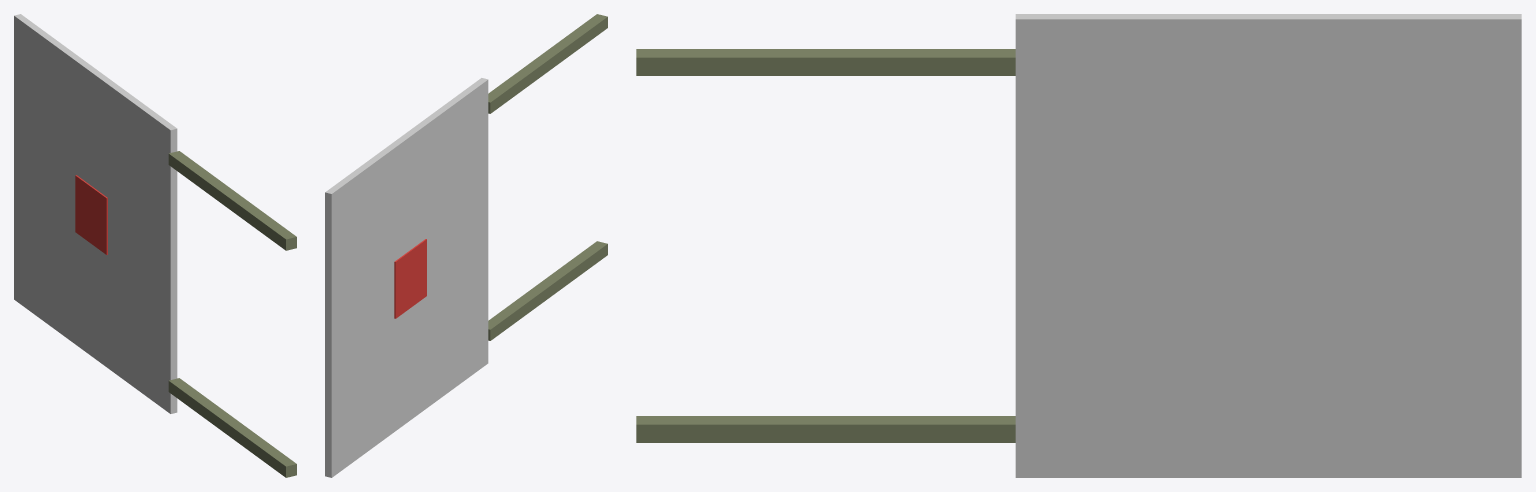
3 renders of one model, left to right at view 1: azimuth 30°, elevation 25°; view 2: azimuth 150°, elevation 25°; view 3: azimuth 270°, elevation 25°, orthographic. The views are drawn at different scales.
Visible parts, largest first — view 1: board, posts, bullseye; view 2: board, posts, bullseye; view 3: board, posts.
Part boxes in pixels (<box>): board: <box>14,14,177,413</box>; posts: <box>168,151,296,477</box>; bullseye: <box>75,175,107,254</box>; board: <box>325,78,488,477</box>; posts: <box>488,14,607,340</box>; bullseye: <box>394,239,426,318</box>; board: <box>1015,14,1521,477</box>; posts: <box>636,49,1015,442</box>.
Bounding box in the file's own units: 0.08 × 2 × 3.5.
